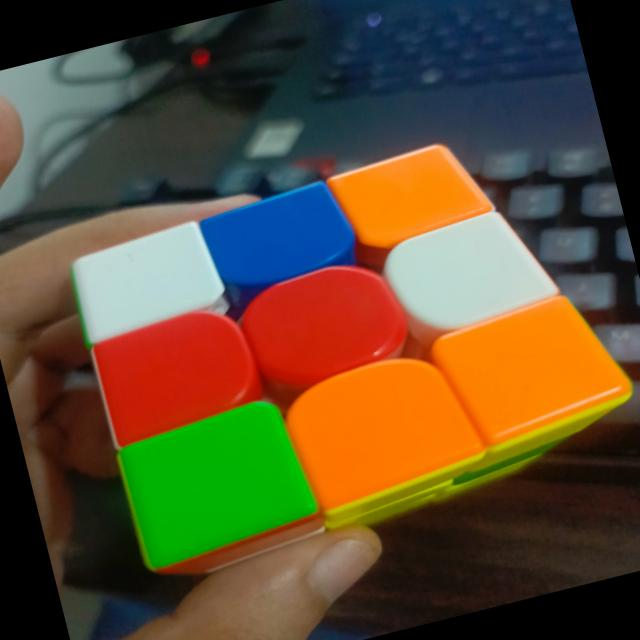rubik: (55, 109, 640, 587)
